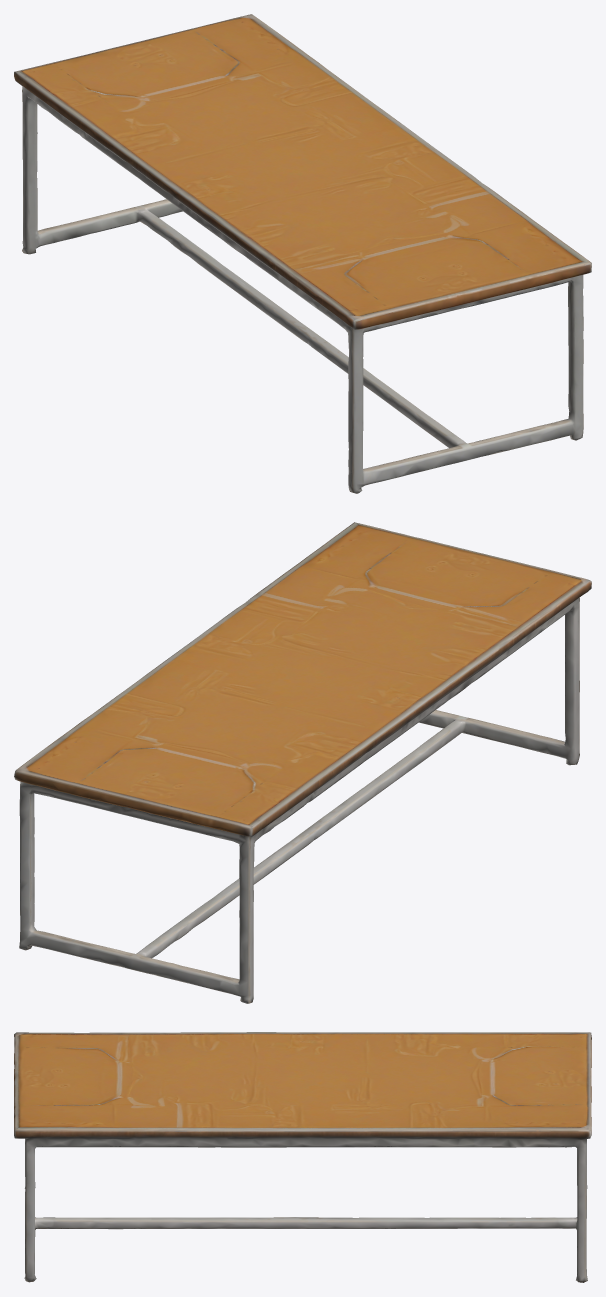
Rendered from 1757858728289-583430503-CFT006-Desk.glb.
The picture shows the model from 3 angles, top to bottom: view 1: azimuth 30°, elevation 25°; view 2: azimuth 150°, elevation 25°; view 3: azimuth 270°, elevation 25°; orthographic projection. The views are drawn at different scales.
Bounding box in the file's own units: 0.8115 × 0.5882 × 2.
1 material, 1 textured.
